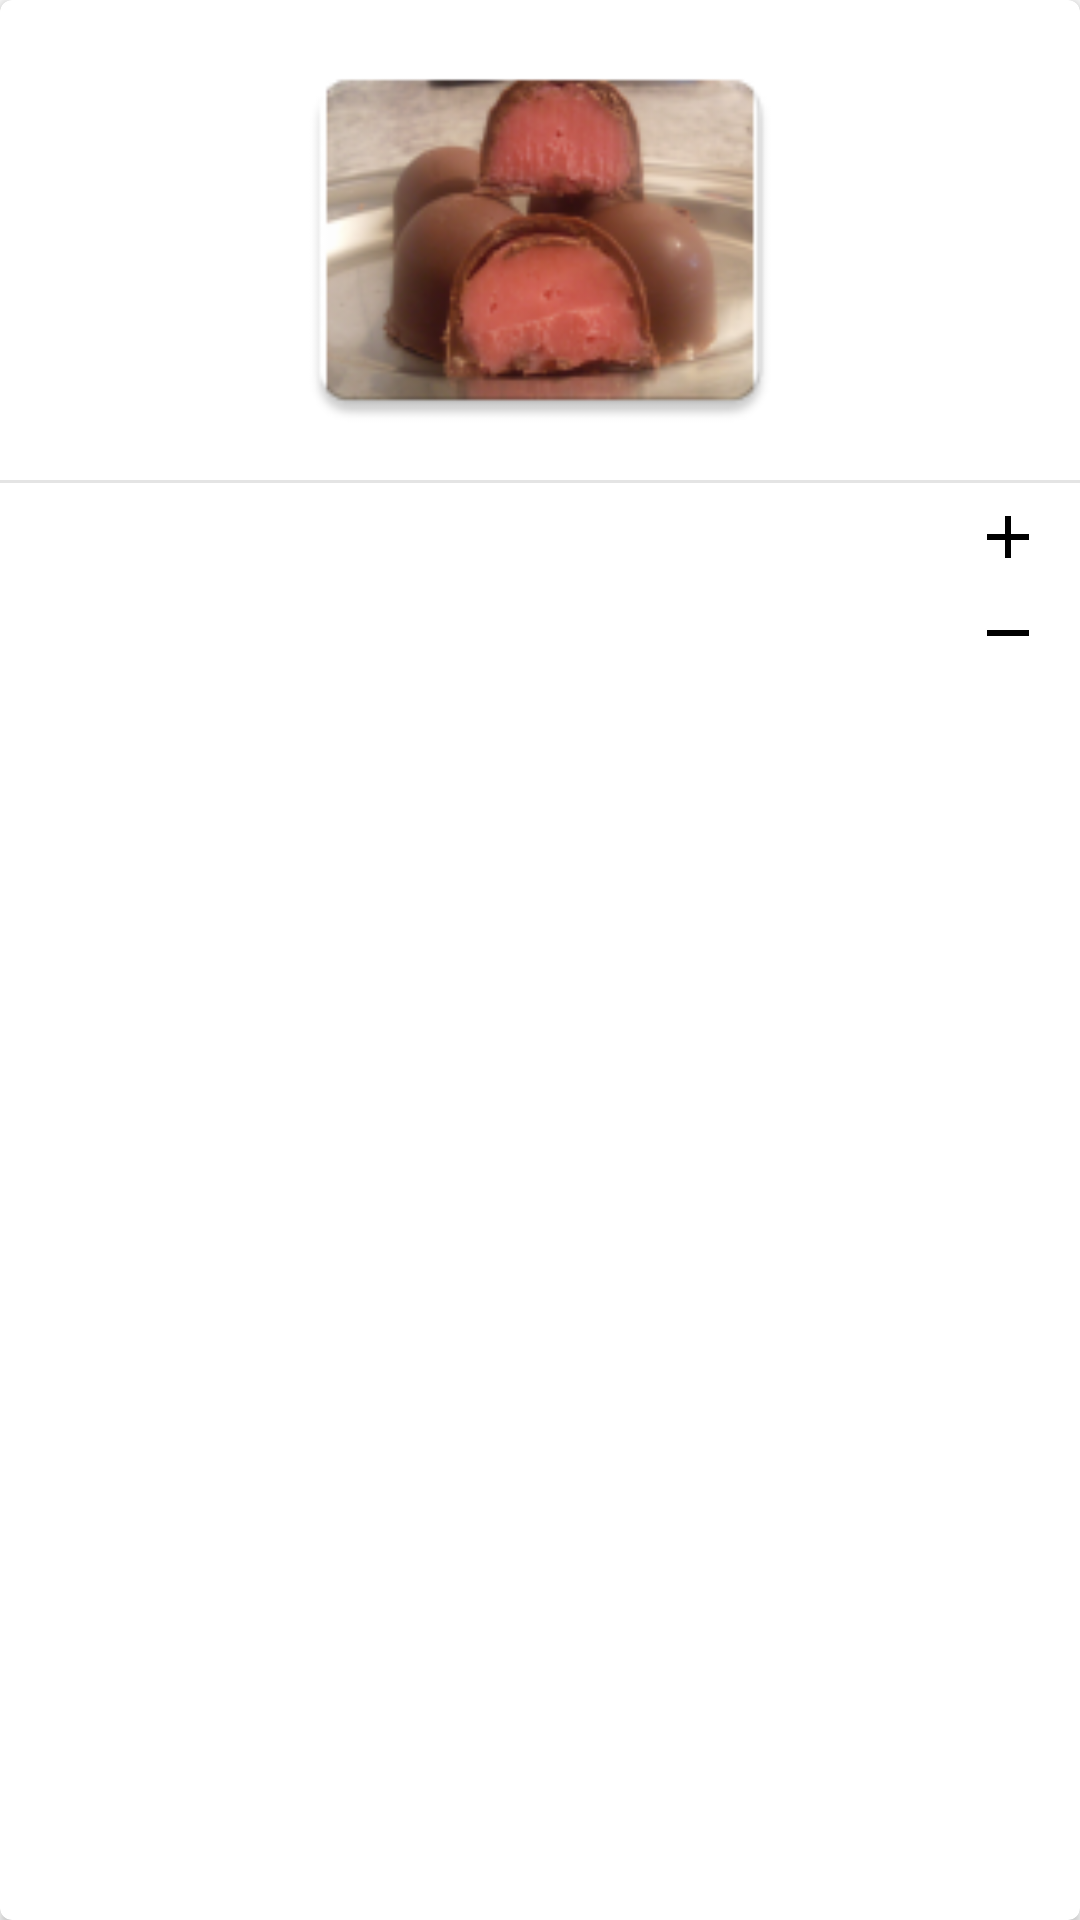

Where icons sit on this 1080 × 1920 app screen, as bbox(x1, y1, x2, y2):
content add: bbox(987, 516, 1029, 558)
